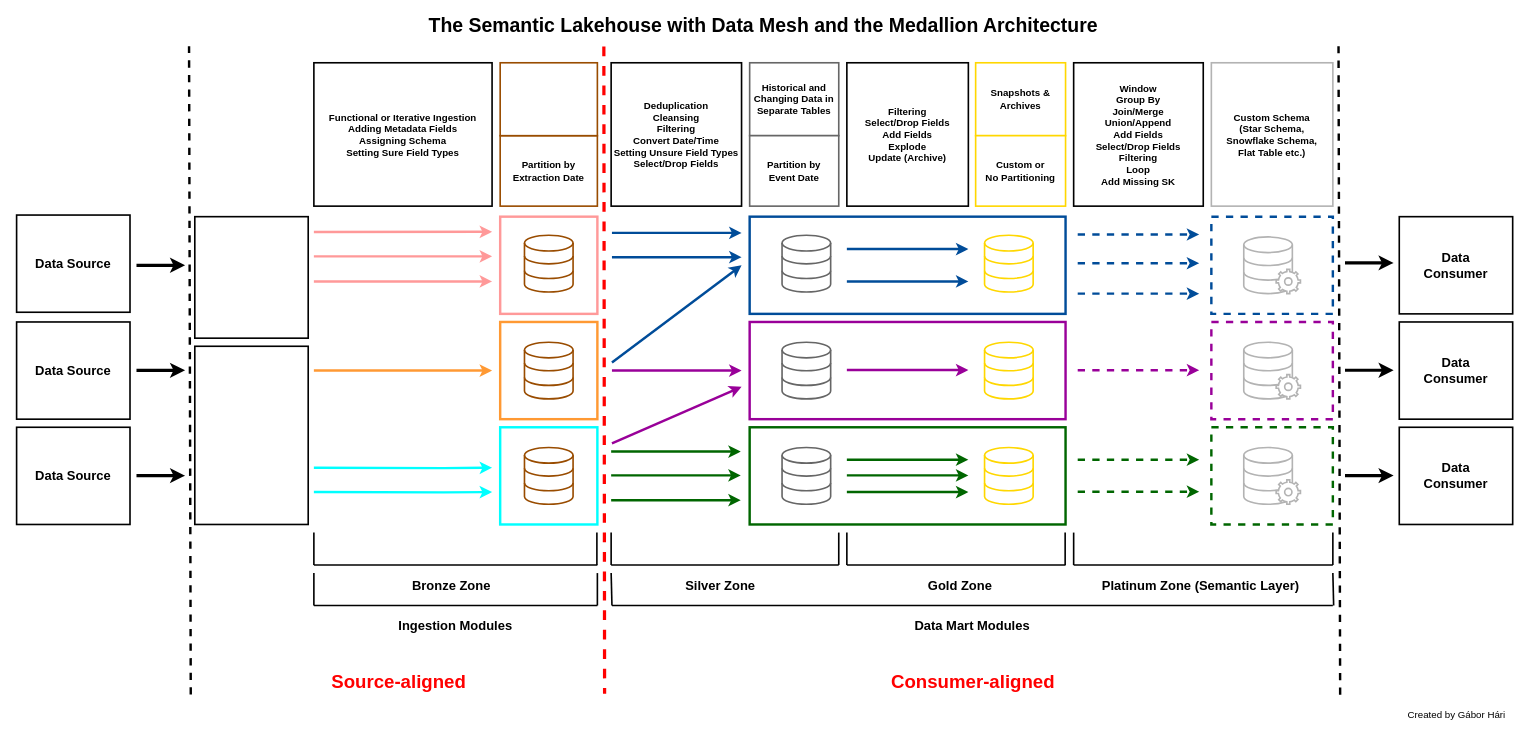
The diagram is 1527 pixels wide and 748 high, and some of its shapes have lost their labels. Here are the shapes that lost their labels. From the top down, the centre of each, then its label:
At point 548,99: "Schema of the Source".
At point 251,277: "Streaming Platform".
At point 251,435: "Raw Zone of the Data Lake".
